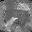people: (6, 17, 18, 31)
